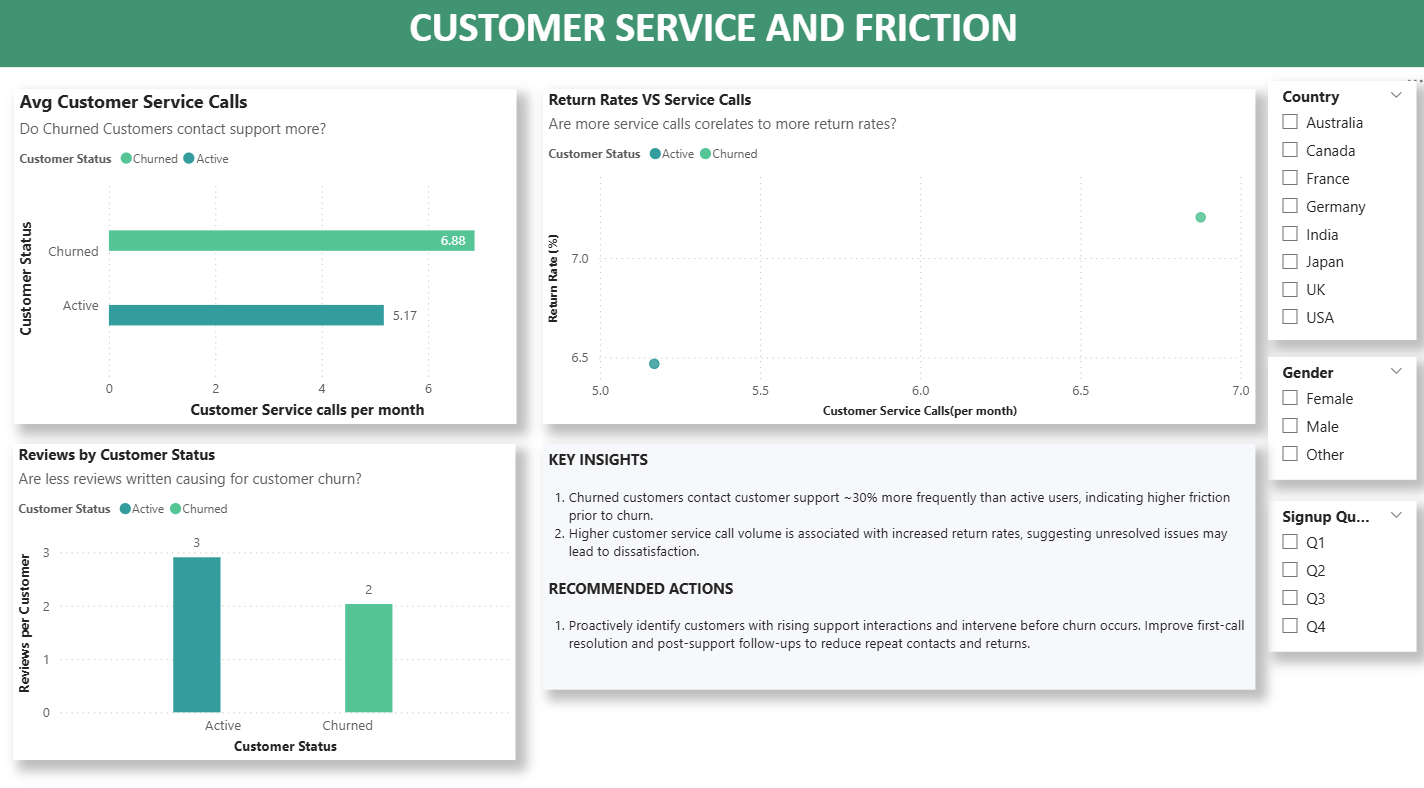

The page's visual inventory and layout, read from the dashboard file:
{"tool":"powerbi","page":{"name":"Customer Service and Friction","canvas":[1280,720],"ordinal":6},"visuals":[{"type":"textbox","box":[0,0,1279.7,65],"z":0},{"type":"clusteredBarChart","title":"Avg Customer Service Calls","fields":{"Y":["Avg(ecommerce_customer_churn_dataset.Customer_Service_Calls)"],"Category":["ecommerce_customer_churn_dataset.Churned_status","ecommerce_customer_churn_dataset.Age Category"],"Series":["ecommerce_customer_churn_dataset.Churned_status"]},"box":[13.4,84.2,449.6,300],"z":1000},{"type":"scatterChart","title":"Return Rates VS Service Calls","fields":{"Category":["ecommerce_customer_churn_dataset.Churned_status"],"X":["Avg(ecommerce_customer_churn_dataset.Customer_Service_Calls)"],"Y":["Avg(ecommerce_customer_churn_dataset.Returns_Rate (%))"],"Series":["ecommerce_customer_churn_dataset.Churned_status"]},"box":[487.2,84.2,637.6,300],"z":2000},{"type":"slicer","fields":{"Values":["ecommerce_customer_churn_dataset.Country"]},"box":[1136,77,133,232],"z":3000},{"type":"slicer","fields":{"Values":["ecommerce_customer_churn_dataset.Gender"]},"box":[1136,324,133,110],"z":4000},{"type":"slicer","fields":{"Values":["ecommerce_customer_churn_dataset.Signup_Quarter"]},"box":[1136,453,133,135],"z":5000},{"type":"clusteredColumnChart","title":"Reviews by Customer Status","fields":{"Category":["ecommerce_customer_churn_dataset.Churned_status","ecommerce_customer_churn_dataset.Age Category"],"Series":["ecommerce_customer_churn_dataset.Churned_status"],"Y":["Avg(ecommerce_customer_churn_dataset.Product_Reviews_Written)"]},"box":[12.6,402.4,450,282.9],"z":6000},{"type":"textbox","box":[486.8,402.4,637.8,220.1],"z":7000}]}

Visuals, with their boxes in screenshot pixels (x1, y1, x2, y2), scaled from the page's 1280x720 canvas onto the 1424x788 screenshot:
textbox: box=[0, 0, 1423, 71]
"Avg Customer Service Calls" clusteredBarChart: box=[15, 92, 515, 420]
"Return Rates VS Service Calls" scatterChart: box=[542, 92, 1251, 420]
slicer - ecommerce_customer_churn_dataset.Country: box=[1264, 84, 1412, 338]
slicer - ecommerce_customer_churn_dataset.Gender: box=[1264, 355, 1412, 475]
slicer - ecommerce_customer_churn_dataset.Signup_Quarter: box=[1264, 496, 1412, 644]
"Reviews by Customer Status" clusteredColumnChart: box=[14, 440, 515, 750]
textbox: box=[542, 440, 1251, 681]
